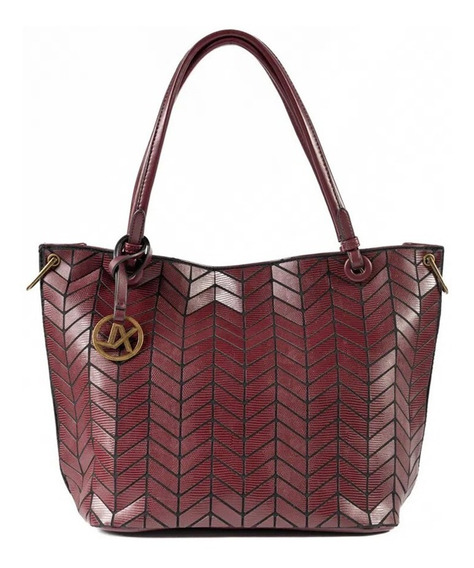cartera: (33, 30, 448, 538)
